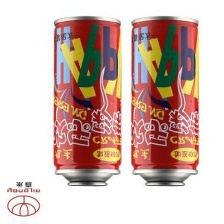aerosol_cans: (126, 13, 202, 194), (51, 13, 122, 189)
